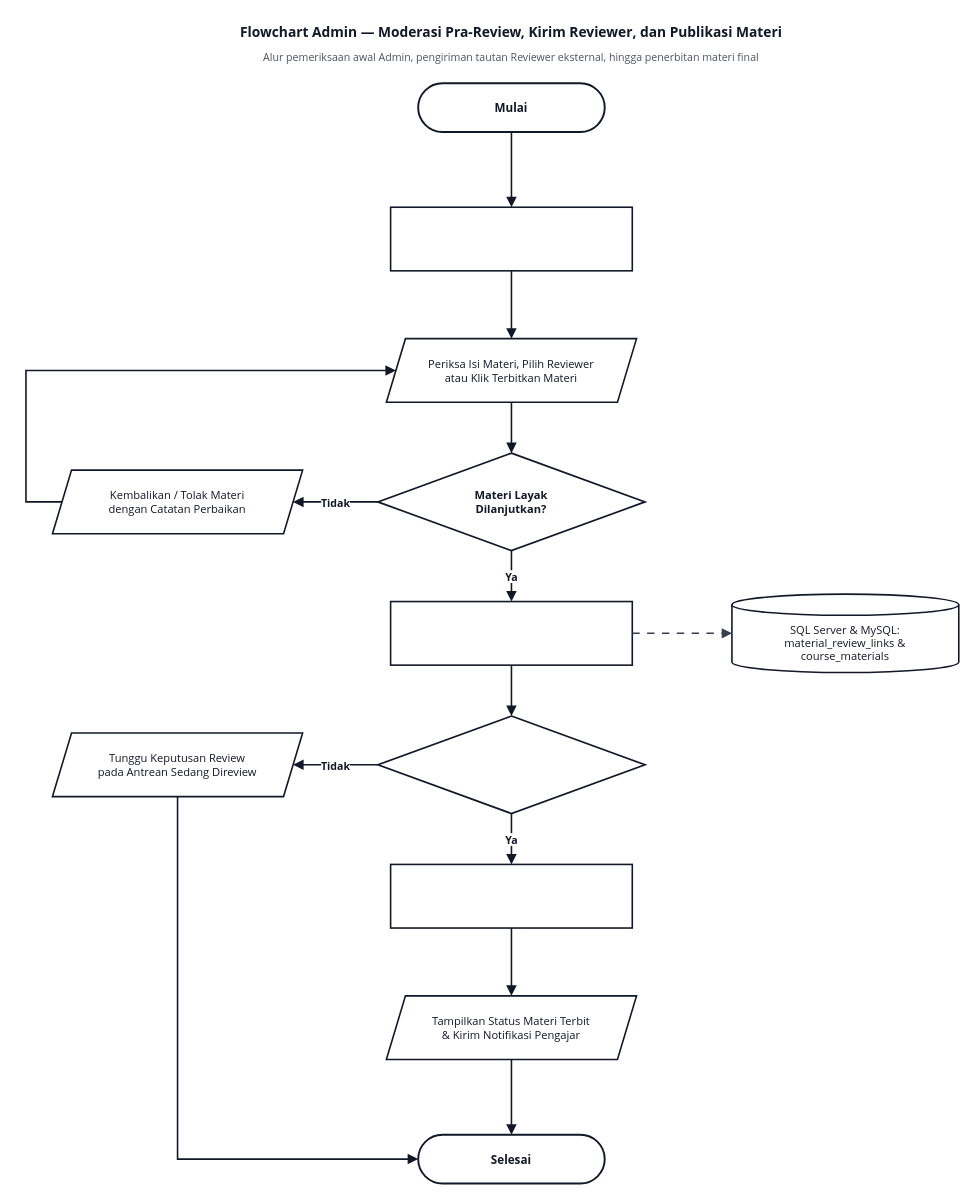
Image size: 978x1202. Some labels were removed from this diagram. Here are the shapes that lost their labels. From the top down, the centre of each, then its label:
At [511,238]: "Buka Antrean Pengajuan pada Halaman Kelola Materi".
At [511,632]: "Kirim Tautan Token SHA-256 ke Reviewer via Email SMTP".
At [511,764]: "Status Materi Sudah Disetujui Reviewer?".
At [511,895]: "Klik Terbitkan Materi Final & Sinkronkan ke Portal Siswa".
